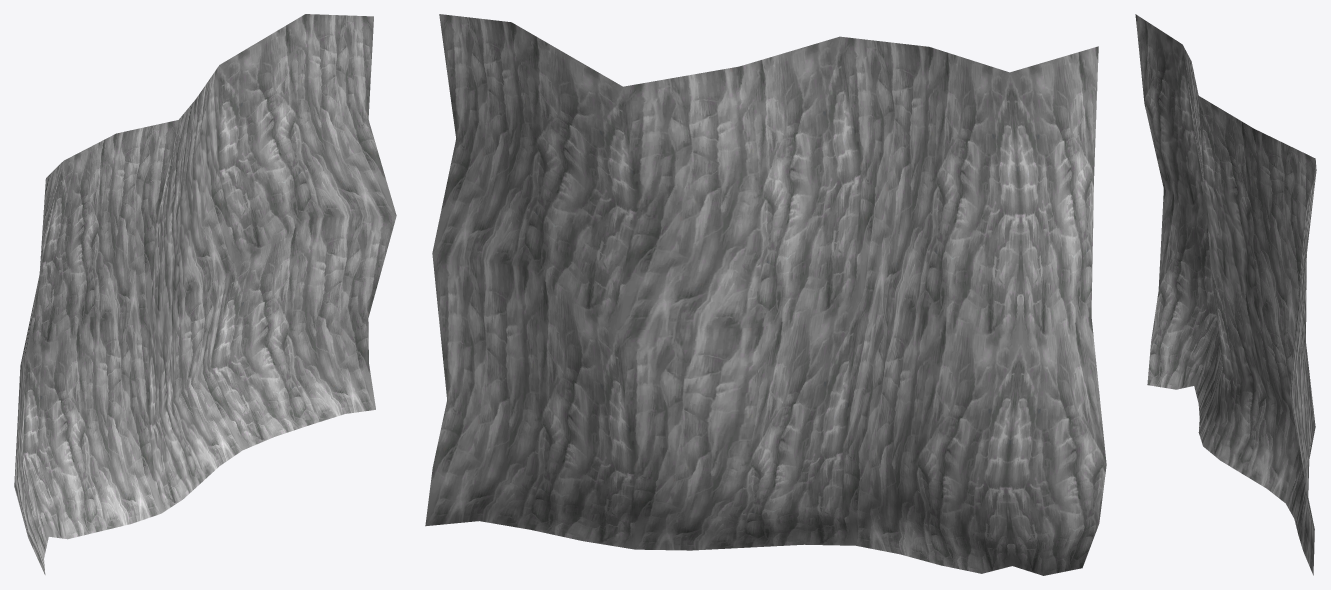
The model's file is SWORDLIGHT20_PS-AREA03_182.fbx.
The picture shows the model from 3 angles, left to right: view 1: azimuth 30°, elevation 25°; view 2: azimuth 150°, elevation 25°; view 3: azimuth 270°, elevation 25°; orthographic projection. The views are drawn at different scales.
Parts seen in each view (by area): view 1: SWORDLIGHT20_PS-AREA03_182; view 2: SWORDLIGHT20_PS-AREA03_182; view 3: SWORDLIGHT20_PS-AREA03_182.
Part boxes in pixels (x1=…): SWORDLIGHT20_PS-AREA03_182: x1=14, y1=14, x2=396, y2=574; SWORDLIGHT20_PS-AREA03_182: x1=425, y1=14, x2=1106, y2=575; SWORDLIGHT20_PS-AREA03_182: x1=1135, y1=14, x2=1316, y2=575.
Bounding box in the file's own units: 231019 × 199912 × 87495.
1 material, 1 textured.
